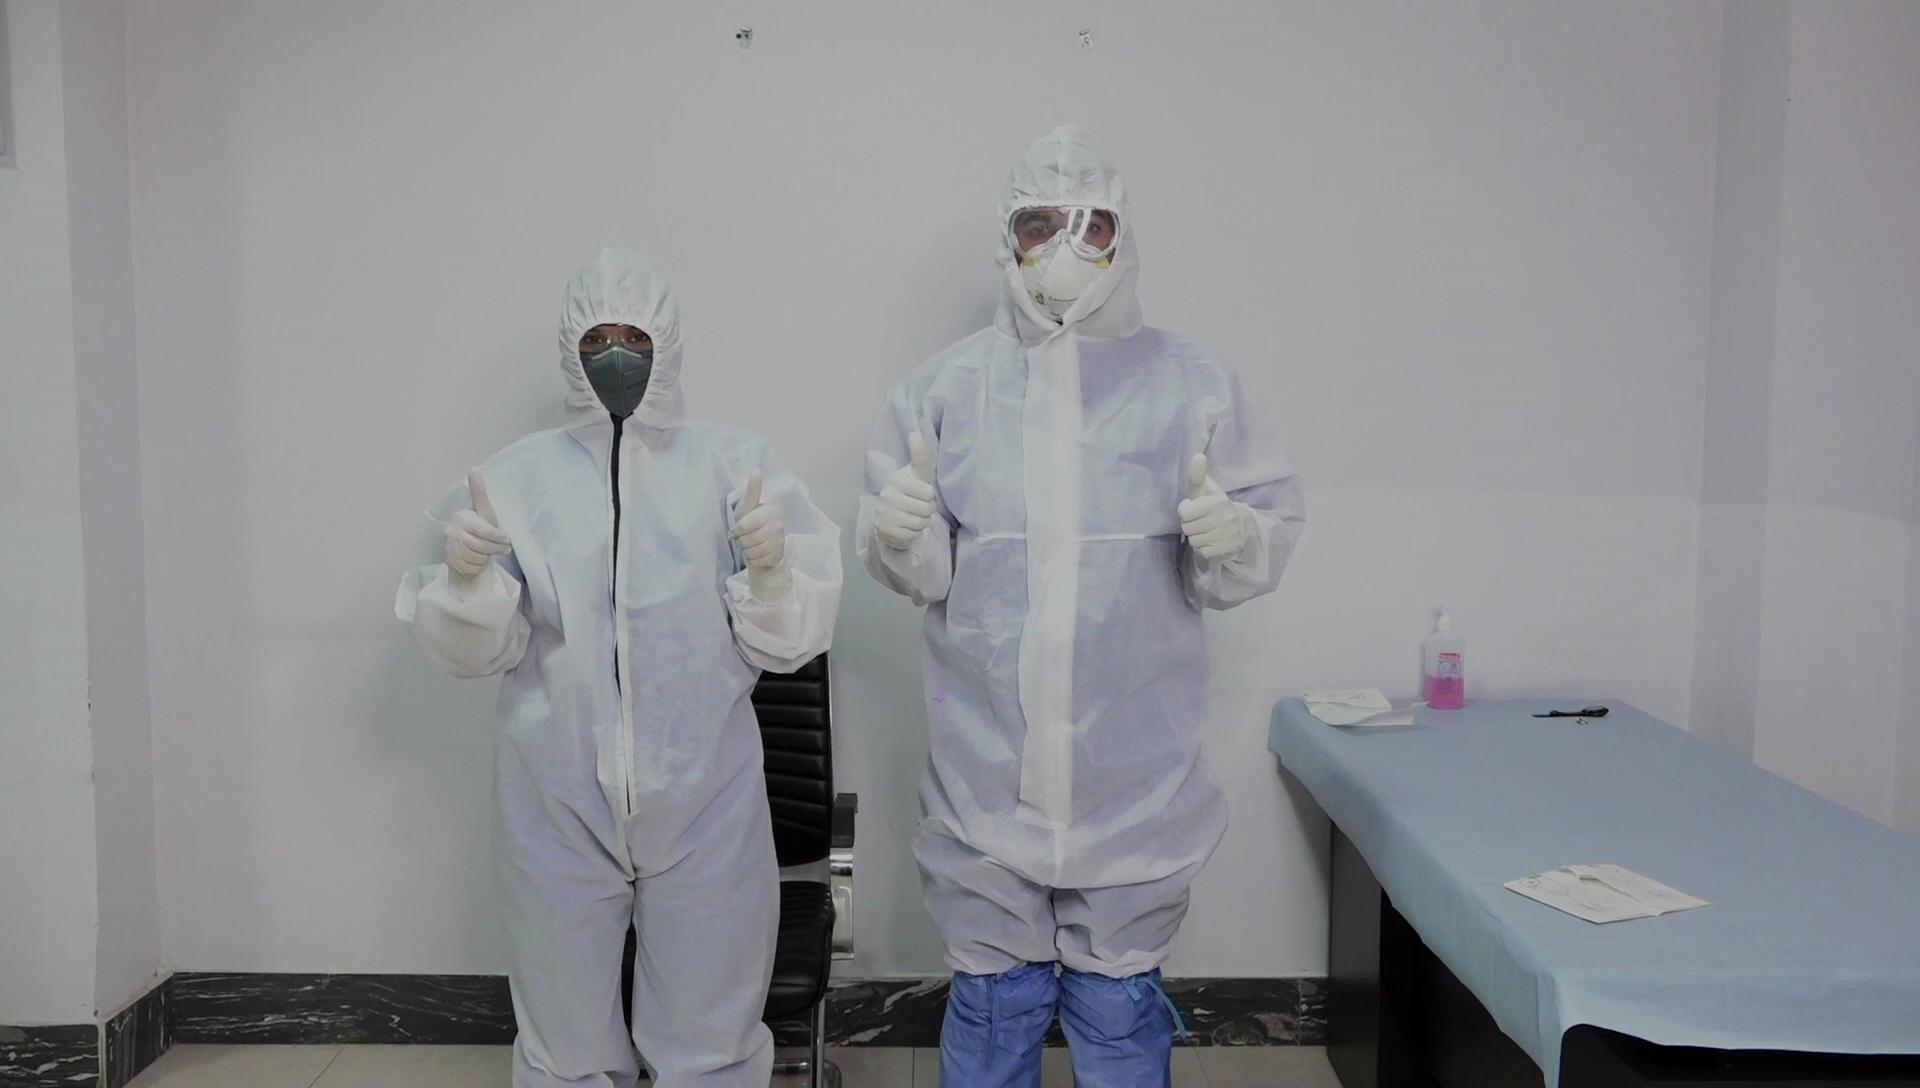Gloves: (1174, 450, 1251, 562), (436, 463, 510, 575), (870, 430, 938, 549), (728, 466, 786, 576)
Goggles: (1013, 203, 1122, 262), (582, 313, 654, 360)
